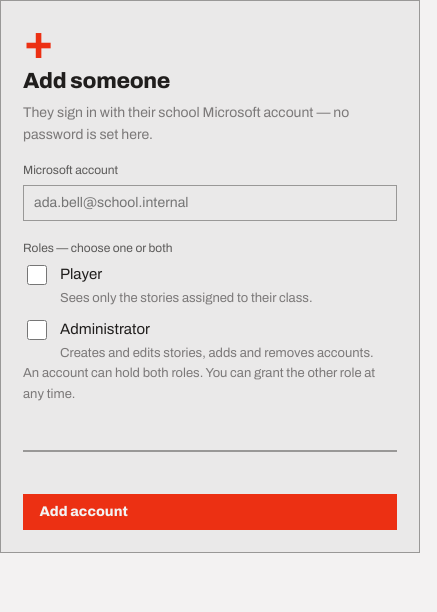
Test: AccountForm › surfaces role_required for an empty role submission
Type "player@example.com" into the field labelled "Microsoft account".
click(210, 203); type("player@example.com")  # box top-left (23, 185), bottom-right (397, 221)
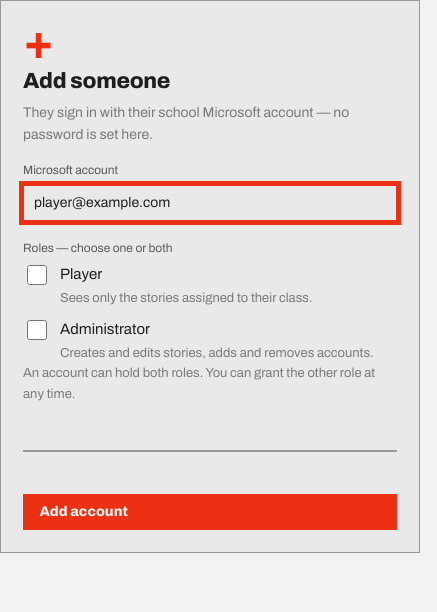
Click the button "Add account".
click(84, 511)  # box top-left (23, 494), bottom-right (397, 530)
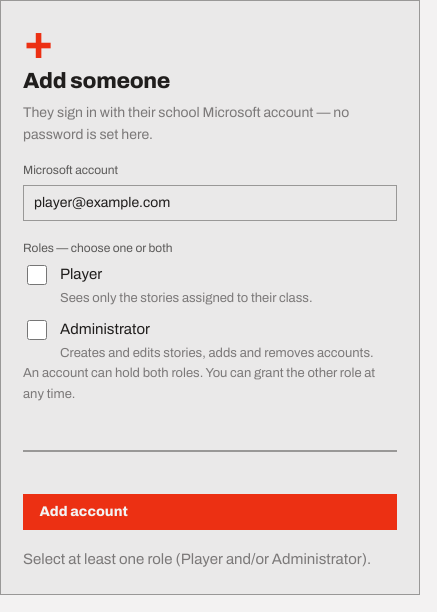
Expected: the message shows "Select at least one role", top-left (23, 551), bottom-right (371, 567)
